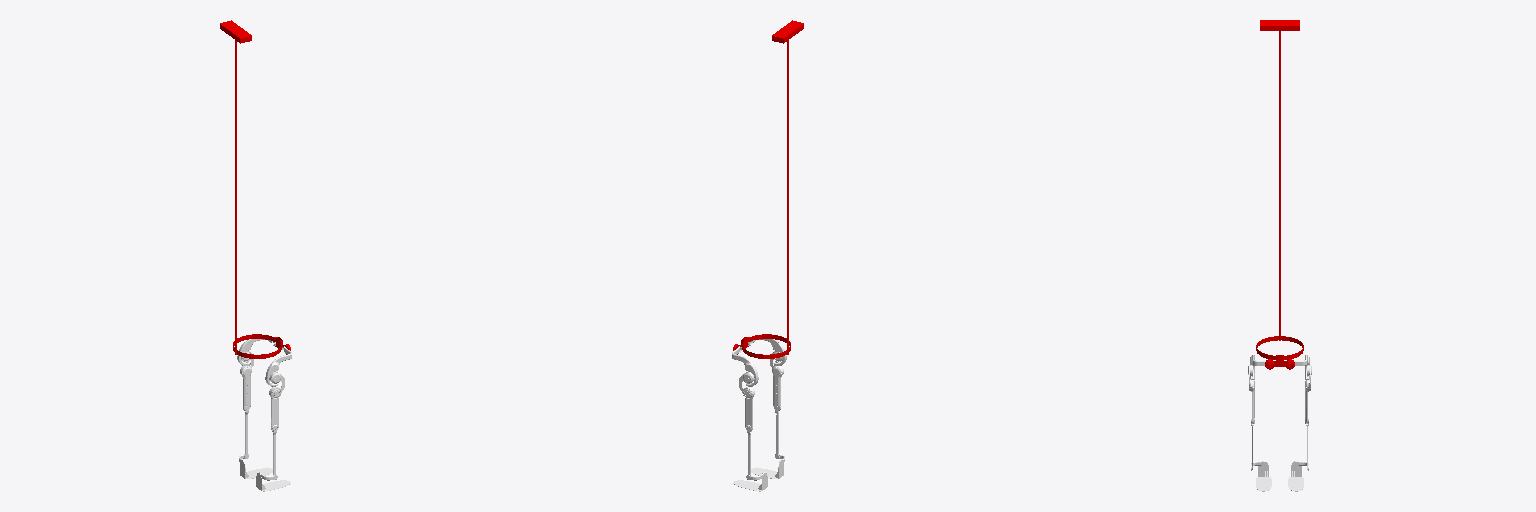
The robot description file, URDF, robot "a2":
<?xml version="1.0" encoding="utf-8"?>
<!-- This URDF was automatically created by SolidWorks to URDF Exporter! Originally created by Stephen Brawner (brawner@gmail.com) 
     Commit Version: 1.6.0-4-g7f85cfe  Build Version: 1.6.7995.38578
     For more information, please see http://wiki.ros.org/sw_urdf_exporter -->
<robot  name="a2">
  <link    name="base_link">
    <inertial>
      <origin
        xyz="-0.14464 0 0.63562"
        rpy="0 0 0" />
      <mass
        value="1.6082" />
      <inertia
        ixx="1.6349"
        ixy="0"
        ixz="0.2309"
        iyy="1.6777"
        iyz="0"
        izz="0.06302" />
    </inertial>
    <visual>
      <origin
        xyz="0 0 0"
        rpy="0 0 0" />
      <geometry>
        <mesh
          filename="../meshes/base_link.STL" />
      </geometry>
      <material
        name="">
        <color
          rgba="1 0 0 1" />
      </material>
    </visual>
    <!-- <collision>
      <origin
        xyz="0 0 0"
        rpy="0 0 0" />
      <geometry>
        <mesh
          filename="../meshes/base_link.STL" />
      </geometry>
    </collision> -->
    <collision>
      <origin
        xyz="-0.2 0 0.75"
        rpy="0 0 0" />
      <geometry>
        <box size="0.4 0.3 1.5" />
      </geometry>
    </collision>
  
  
  </link>
  <link    name="left_hip_roll_link">
    <inertial>
      <origin
        xyz="-0.11964 0.10244 -0.05598"
        rpy="0 0 0" />
      <mass
        value="0.34283" />
      <inertia
        ixx="0.00223"
        ixy="0.00091"
        ixz="-0.00132"
        iyy="0.00379"
        iyz="0.00049"
        izz="0.00287" />
    </inertial>
    <visual>
      <origin
        xyz="0 0 0"
        rpy="0 0 0" />
      <geometry>
        <mesh
          filename="../meshes/left_hip_roll_link.STL" />
      </geometry>
      <material
        name="">
        <color
          rgba="1 1 1 1" />
      </material>
    </visual>
    <!-- <collision>
      <origin
        xyz="0 0 0"
        rpy="0 0 0" />
      <geometry>
        <mesh
          filename="../meshes/left_hip_roll_link.STL" />
      </geometry>
    </collision> -->
  </link>
  <joint    name="left_hip_roll_joint"    type="revolute">
    <origin
      xyz="-0.001 0.075 0"
      rpy="0 0 0" />
    <parent
      link="base_link" />
    <child
      link="left_hip_roll_link" />
    <axis
      xyz="1 0 0" />
    <limit
      lower="-0.52"
      upper="2.97"
      effort="200"
      velocity="200" />
  </joint>
  <link    name="left_hip_yaw_link">
    <inertial>
      <origin
        xyz="-1E-05 0.00843 -0.04551"
        rpy="0 0 0" />
      <mass
        value="0.46018" />
      <inertia
        ixx="0.00023"
        ixy="0"
        ixz="0"
        iyy="0.00035"
        iyz="0"
        izz="0.00016" />
    </inertial>
    <visual>
      <origin
        xyz="0 0 0"
        rpy="0 0 0" />
      <geometry>
        <mesh
          filename="../meshes/left_hip_yaw_link.STL" />
      </geometry>
      <material
        name="">
        <color
          rgba="1 1 1 1" />
      </material>
    </visual>
    <!-- <collision>
      <origin
        xyz="0 0 0"
        rpy="0 0 0" />
      <geometry>
        <mesh
          filename="../meshes/left_hip_yaw_link.STL" />
      </geometry>
    </collision> -->
  </link>
  <joint    name="left_hip_yaw_joint"    type="revolute">
    <origin
      xyz="-0.166 0.128 -0.0835"
      rpy="0 0 0" />
    <parent
      link="left_hip_roll_link" />
    <child
      link="left_hip_yaw_link" />
    <axis
      xyz="0 0 1" />
    <limit
      lower="-2.76"
      upper="2.76"
      effort="200"
      velocity="200" />
  </joint>
  <link    name="left_hip_pitch_link">
    <inertial>
      <origin
        xyz="0.00472 -0.01824 -0.17562"
        rpy="0 0 0" />
      <mass
        value="0.81624" />
      <inertia
        ixx="0.01192"
        ixy="-4E-05"
        ixz="-0.00047"
        iyy="0.01225"
        iyz="-0.00068"
        izz="0.00052" />
    </inertial>
    <visual>
      <origin
        xyz="0 0 0"
        rpy="0 0 0" />
      <geometry>
        <mesh
          filename="../meshes/left_hip_pitch_link.STL" />
      </geometry>
      <material
        name="">
        <color
          rgba="1 1 1 1" />
      </material>
    </visual>
    <!-- <collision>
      <origin
        xyz="0 0 0"
        rpy="0 0 0" />
      <geometry>
        <mesh
          filename="../meshes/left_hip_pitch_link.STL" />
      </geometry>
    </collision> -->
  </link>
  <joint    name="left_hip_pitch_joint"    type="revolute">
    <origin
      xyz="0 0.028 -0.0455"
      rpy="0 0 0" />
    <parent
      link="left_hip_yaw_link" />
    <child
      link="left_hip_pitch_link" />
    <axis
      xyz="0 1 0" />
    <limit
      lower="-2.53"
      upper="2.88"
      effort="200"
      velocity="200" />
  </joint>
  <link    name="left_knee_link">
    <inertial>
      <origin
        xyz="0 0.01314 -0.14741"
        rpy="0 0 0" />
      <mass
        value="0.10574" />
      <inertia
        ixx="0.0018"
        ixy="0"
        ixz="0"
        iyy="0.0018"
        iyz="-1E-05"
        izz="1E-05" />
    </inertial>
    <visual>
      <origin
        xyz="0 0 0"
        rpy="0 0 0" />
      <geometry>
        <mesh
          filename="../meshes/left_knee_link.STL" />
      </geometry>
      <material
        name="">
        <color
          rgba="1 1 1 1" />
      </material>
    </visual>
    <!-- <collision>
      <origin
        xyz="0 0 0"
        rpy="0 0 0" />
      <geometry>
        <mesh
          filename="../meshes/left_knee_link.STL" />
      </geometry>
    </collision> -->
  </link>
  <joint    name="left_knee_joint"    type="revolute">
    <origin
      xyz="0 -0.04325 -0.4"
      rpy="0 0 0" />
    <parent
      link="left_hip_pitch_link" />
    <child
      link="left_knee_link" />
    <axis
      xyz="0 1 0" />
    <limit
      lower="-0.09"
      upper="2.88"
      effort="200"
      velocity="200" />
  </joint>
  <link    name="left_ankle_pitch_link">
    <inertial>
      <origin
        xyz="-0.04625 -0.01898 0"
        rpy="0 0 0" />
      <mass
        value="0.04908" />
      <inertia
        ixx="7E-05"
        ixy="-4E-05"
        ixz="0"
        iyy="5E-05"
        iyz="0"
        izz="0.00011" />
    </inertial>
    <visual>
      <origin
        xyz="0 0 0"
        rpy="0 0 0" />
      <geometry>
        <mesh
          filename="../meshes/left_ankle_pitch_link.STL" />
      </geometry>
      <material
        name="">
        <color
          rgba="1 1 1 1" />
      </material>
    </visual>
    <!-- <collision>
      <origin
        xyz="0 0 0"
        rpy="0 0 0" />
      <geometry>
        <mesh
          filename="../meshes/left_ankle_pitch_link.STL" />
      </geometry>
    </collision> -->
  </link>
  <joint    name="left_ankle_pitch_joint"    type="revolute">
    <origin
      xyz="0 0.00825 -0.392"
      rpy="0 0 0" />
    <parent
      link="left_knee_link" />
    <child
      link="left_ankle_pitch_link" />
    <axis
      xyz="0 1 0" />
    <limit
      lower="-0.87"
      upper="0.52"
      effort="200"
      velocity="200" />
  </joint>
  <link    name="left_ankle_roll_link">
    <inertial>
      <origin
        xyz="0.04783 0 -0.08669"
        rpy="0 0 0" />
      <mass
        value="0.21284" />
      <inertia
        ixx="0.00043"
        ixy="0"
        ixz="0.00031"
        iyy="0.00147"
        iyz="0"
        izz="0.00134" />
    </inertial>
    <visual>
      <origin
        xyz="0 0 0"
        rpy="0 0 0" />
      <geometry>
        <mesh
          filename="../meshes/left_ankle_roll_link.STL" />
      </geometry>
      <material
        name="">
        <color
          rgba="1 1 1 1" />
      </material>
    </visual>
    <!-- <collision>
      <origin
        xyz="0 0 0"
        rpy="0 0 0" />
      <geometry>
        <mesh
          filename="../meshes/left_ankle_roll_link.STL" />
      </geometry>
    </collision> -->
  </link>
  <joint    name="left_ankle_roll_joint"    type="revolute">
    <origin
      xyz="-0.063229 -0.0765 0"
      rpy="0 0 0" />
    <parent
      link="left_ankle_pitch_link" />
    <child
      link="left_ankle_roll_link" />
    <axis
      xyz="1 0 0" />
    <limit
      lower="-0.26"
      upper="0.26"
      effort="200"
      velocity="200" />
  </joint>

  <link    name="leg_lfoot_link">
    <inertial>
      <origin
        xyz="0.0 0.0 0.0"
        rpy="0 0 0" />
      <mass  value="0.0001" />
      <inertia
        ixx="0.000001"
        ixy="0.0"
        ixz="0.0"
        iyy="0.000001"
        iyz="0.0"
        izz="0.000001" />
    </inertial>
    <collision>
      <origin
        xyz="0 0 0.0125"
        rpy="0 0 0" />
      <geometry>
        <box size="0.12 0.255 0.002" />
      </geometry>
    </collision>
  </link>

  <joint  name="leg_lfoot_joint"    type="fixed">
    <origin
      xyz="0.11 0.0 -0.125"
      rpy="0 0 1.5708" />
    <parent
      link="left_ankle_roll_link" />
    <child
      link="leg_lfoot_link" />
  </joint>

  <link    name="right_hip_roll_link">
    <inertial>
      <origin
        xyz="-0.11964 -0.10243 -0.05598"
        rpy="0 0 0" />
      <mass
        value="0.34281" />
      <inertia
        ixx="0.00223"
        ixy="-0.00091"
        ixz="-0.00132"
        iyy="0.00379"
        iyz="-0.00049"
        izz="0.00287" />
    </inertial>
    <visual>
      <origin
        xyz="0 0 0"
        rpy="0 0 0" />
      <geometry>
        <mesh
          filename="../meshes/right_hip_roll_link.STL" />
      </geometry>
      <material
        name="">
        <color
          rgba="1 1 1 1" />
      </material>
    </visual>
    <!-- <collision>
      <origin
        xyz="0 0 0"
        rpy="0 0 0" />
      <geometry>
        <mesh
          filename="../meshes/right_hip_roll_link.STL" />
      </geometry>
    </collision> -->
  </link>
  <joint    name="right_hip_roll_joint"    type="revolute">
    <origin
      xyz="-0.001 -0.075 0"
      rpy="0 0 0" />
    <parent
      link="base_link" />
    <child
      link="right_hip_roll_link" />
    <axis
      xyz="1 0 0" />
    <limit
      lower="-2.97"
      upper="0.52"
      effort="200"
      velocity="200" />
  </joint>
  <link    name="right_hip_yaw_link">
    <inertial>
      <origin
        xyz="-1E-05 -0.00843 -0.04551"
        rpy="0 0 0" />
      <mass
        value="0.46018" />
      <inertia
        ixx="0.00023"
        ixy="0"
        ixz="0"
        iyy="0.00035"
        iyz="0"
        izz="0.00016" />
    </inertial>
    <visual>
      <origin
        xyz="0 0 0"
        rpy="0 0 0" />
      <geometry>
        <mesh
          filename="../meshes/right_hip_yaw_link.STL" />
      </geometry>
      <material
        name="">
        <color
          rgba="1 1 1 1" />
      </material>
    </visual>
    <!-- <collision>
      <origin
        xyz="0 0 0"
        rpy="0 0 0" />
      <geometry>
        <mesh
          filename="../meshes/right_hip_yaw_link.STL" />
      </geometry>
    </collision> -->
  </link>
  <joint    name="right_hip_yaw_joint"    type="revolute">
    <origin
      xyz="-0.166 -0.128 -0.0835"
      rpy="0 0 0" />
    <parent
      link="right_hip_roll_link" />
    <child
      link="right_hip_yaw_link" />
    <axis
      xyz="0 0 1" />
    <limit
      lower="-2.76"
      upper="2.76"
      effort="200"
      velocity="200" />
  </joint>
  <link    name="right_hip_pitch_link">
    <inertial>
      <origin
        xyz="0.00472 0.01824 -0.17562"
        rpy="0 0 0" />
      <mass
        value="0.81624" />
      <inertia
        ixx="0.01192"
        ixy="4E-05"
        ixz="-0.00047"
        iyy="0.01225"
        iyz="0.00068"
        izz="0.00052" />
    </inertial>
    <visual>
      <origin
        xyz="0 0 0"
        rpy="0 0 0" />
      <geometry>
        <mesh
          filename="../meshes/right_hip_pitch_link.STL" />
      </geometry>
      <material
        name="">
        <color
          rgba="1 1 1 1" />
      </material>
    </visual>
    <!-- <collision>
      <origin
        xyz="0 0 0"
        rpy="0 0 0" />
      <geometry>
        <mesh
          filename="../meshes/right_hip_pitch_link.STL" />
      </geometry>
    </collision> -->
  </link>
  <joint    name="right_hip_pitch_joint"    type="revolute">
    <origin
      xyz="0 -0.02800001 -0.045500005"
      rpy="0 0 0" />
    <parent
      link="right_hip_yaw_link" />
    <child
      link="right_hip_pitch_link" />
    <axis
      xyz="0 1 0" />
    <limit
      lower="-2.53"
      upper="2.88"
      effort="200"
      velocity="200" />
  </joint>
  <link    name="right_knee_link">
    <inertial>
      <origin
        xyz="0 -0.01314 -0.14741"
        rpy="0 0 0" />
      <mass
        value="0.10574" />
      <inertia
        ixx="0.0018"
        ixy="0"
        ixz="0"
        iyy="0.0018"
        iyz="1E-05"
        izz="1E-05" />
    </inertial>
    <visual>
      <origin
        xyz="0 0 0"
        rpy="0 0 0" />
      <geometry>
        <mesh
          filename="../meshes/right_knee_link.STL" />
      </geometry>
      <material
        name="">
        <color
          rgba="1 1 1 1" />
      </material>
    </visual>
    <!-- <collision>
      <origin
        xyz="0 0 0"
        rpy="0 0 0" />
      <geometry>
        <mesh
          filename="../meshes/right_knee_link.STL" />
      </geometry>
    </collision> -->
  </link>
  <joint    name="right_knee_joint"    type="revolute">
    <origin
      xyz="0 0.04325 -0.4"
      rpy="0 0 0" />
    <parent
      link="right_hip_pitch_link" />
    <child
      link="right_knee_link" />
    <axis
      xyz="0 1 0" />
    <limit
      lower="-0.09"
      upper="2.88"
      effort="200"
      velocity="200" />
  </joint>
  <link    name="right_ankle_pitch_link">
    <inertial>
      <origin
        xyz="-0.04625 0.01898 0"
        rpy="0 0 0" />
      <mass
        value="0.04908" />
      <inertia
        ixx="7E-05"
        ixy="4E-05"
        ixz="0"
        iyy="5E-05"
        iyz="0"
        izz="0.00011" />
    </inertial>
    <visual>
      <origin
        xyz="0 0 0"
        rpy="0 0 0" />
      <geometry>
        <mesh
          filename="../meshes/right_ankle_pitch_link.STL" />
      </geometry>
      <material
        name="">
        <color
          rgba="1 1 1 1" />
      </material>
    </visual>
    <!-- <collision>
      <origin
        xyz="0 0 0"
        rpy="0 0 0" />
      <geometry>
        <mesh
          filename="../meshes/right_ankle_pitch_link.STL" />
      </geometry>
    </collision> -->
  </link>
  <joint    name="right_ankle_pitch_joint"    type="revolute">
    <origin
      xyz="0 -0.00825 -0.392"
      rpy="0 0 0" />
    <parent
      link="right_knee_link" />
    <child
      link="right_ankle_pitch_link" />
    <axis
      xyz="0 1 0" />
    <limit
      lower="-0.87"
      upper="0.52"
      effort="200"
      velocity="200" />
  </joint>
  <link    name="right_ankle_roll_link">
    <inertial>
      <origin
        xyz="0.04784 0 -0.08669"
        rpy="0 0 0" />
      <mass
        value="0.21281" />
      <inertia
        ixx="0.00043"
        ixy="0"
        ixz="0.00031"
        iyy="0.00147"
        iyz="0"
        izz="0.00134" />
    </inertial>
    <visual>
      <origin
        xyz="0 0 0"
        rpy="0 0 0" />
      <geometry>
        <mesh
          filename="../meshes/right_ankle_roll_link.STL" />
      </geometry>
      <material
        name="">
        <color
          rgba="1 1 1 1" />
      </material>
    </visual>
    <!-- <collision>
      <origin
        xyz="0 0 0"
        rpy="0 0 0" />
      <geometry>
        <mesh
          filename="../meshes/right_ankle_roll_link.STL" />
      </geometry>
    </collision> -->
  </link>
  <joint    name="right_ankle_roll_joint"    type="revolute">
    <origin
      xyz="-0.063229 0.0765 0"
      rpy="0 0 0" />
    <parent
      link="right_ankle_pitch_link" />
    <child
      link="right_ankle_roll_link" />
    <axis
      xyz="1 0 0" />
    <limit
      lower="-0.26"
      upper="0.26"
      effort="200"
      velocity="200" />
  </joint>

  <link    name="leg_rfoot_link">
    <inertial>
      <origin
        xyz="0.0 0.0 0.0"
        rpy="0 0 0" />
      <mass  value="0.0001" />
      <inertia
        ixx="0.000001"
        ixy="0.0"
        ixz="0.0"
        iyy="0.000001"
        iyz="0.0"
        izz="0.000001" />
    </inertial>
    <collision>
      <origin
        xyz="0 0 0.0125"
        rpy="0 0 0" />
      <geometry>
        <box size="0.12 0.255 0.002" />
      </geometry>
    </collision>
  </link>

  <joint  name="leg_rfoot_joint"    type="fixed">
    <origin
      xyz="0.11 0.0 -0.125"
      rpy="0 0 1.5708" />
    <parent
      link="right_ankle_roll_link" />
    <child
      link="leg_rfoot_link" />
  </joint>



</robot>

--- Render facts (derived) ---
3 views of the same robot in one strip: view 1: azimuth 30°, elevation 25°; view 2: azimuth 150°, elevation 25°; view 3: azimuth 270°, elevation 25° (orthographic).
Robot: a2 — 15 links, 14 joints (12 revolute, 2 fixed); root link base_link; default pose: all joints at 0.
Links seen in each view (by area): view 1: base_link; view 2: base_link; view 3: base_link.
Boxes of the visible links, <box> form: base_link: <box>220,20,290,358</box>; base_link: <box>733,20,803,358</box>; base_link: <box>1256,20,1303,369</box>.
Size in the robot's own frame: 0.4475 by 0.466 by 3.63 metres.
13 mesh visuals loaded from 13 distinct referenced files (13 binary STL).
